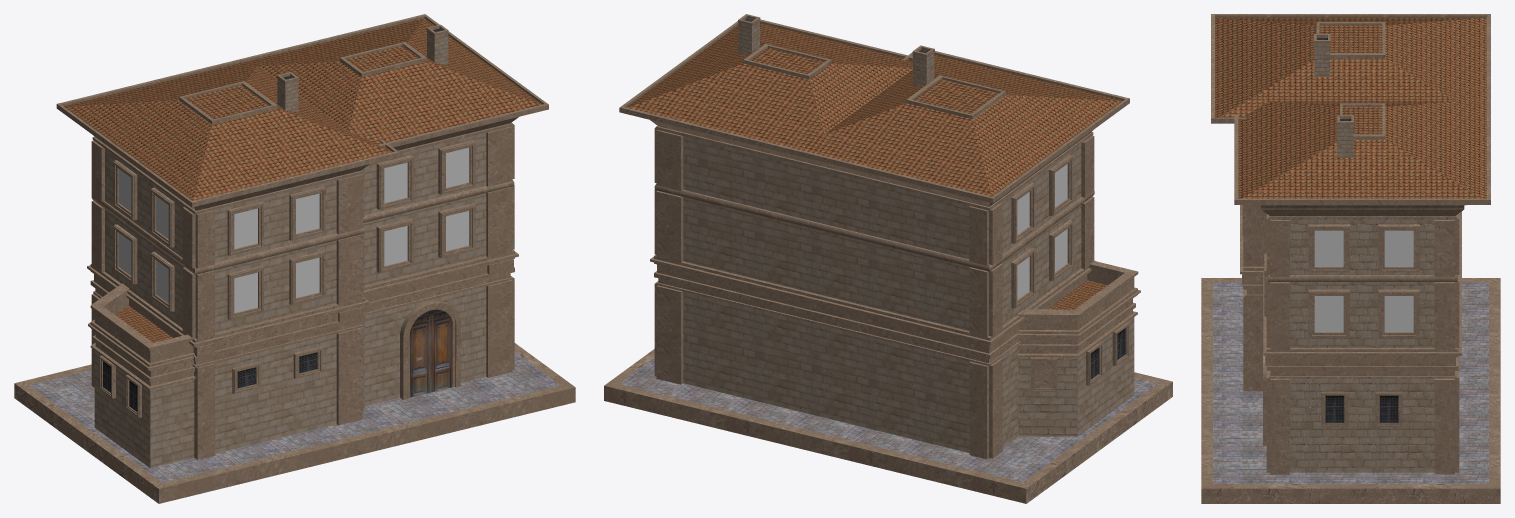
File: objHouyse.obj
3 views of the same model, side by side, from view 1: azimuth 30°, elevation 25°; view 2: azimuth 150°, elevation 25°; view 3: azimuth 270°, elevation 25° (orthographic). The views are drawn at different scales.
Parts seen in each view (by area): view 1: House structure, floor House; view 2: House structure, floor House; view 3: House structure, floor House.
Boxes of the visible parts, left/top/right/bottom form: House structure: left=56, top=14, right=548, bottom=468; floor House: left=14, top=343, right=575, bottom=503; House structure: left=619, top=14, right=1140, bottom=459; floor House: left=604, top=349, right=1172, bottom=503; House structure: left=1211, top=14, right=1490, bottom=474; floor House: left=1201, top=278, right=1500, bottom=503.
Bounding box in the file's own units: 14.84 × 11.54 × 8.91.
